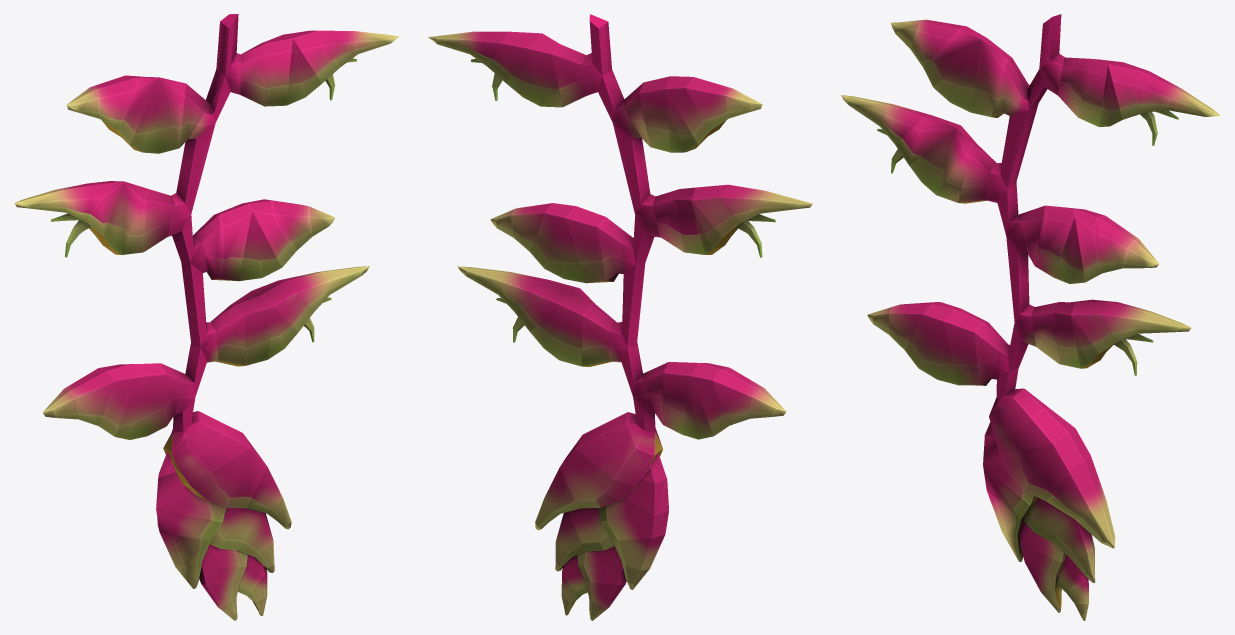
Rendered from Heliconia.fbx.
The picture shows the model from 3 angles, left to right: view 1: azimuth 30°, elevation 25°; view 2: azimuth 150°, elevation 25°; view 3: azimuth 330°, elevation 25°; orthographic projection.
Visible parts, largest first — view 1: HeliconiaFlower_mesh; view 2: HeliconiaFlower_mesh; view 3: HeliconiaFlower_mesh.
Boxes of the visible parts, x1,y1,x2,y2 form: HeliconiaFlower_mesh: (14, 14, 399, 620); HeliconiaFlower_mesh: (428, 14, 812, 620); HeliconiaFlower_mesh: (841, 14, 1220, 620).
Bounding box in the file's own units: 8.9 × 1.17 × 13.42.
